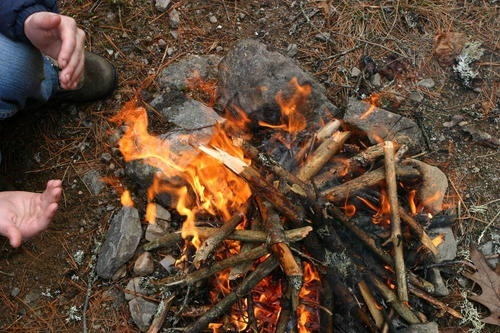fire: (252, 82, 453, 236), (107, 77, 253, 241), (208, 245, 323, 333)
